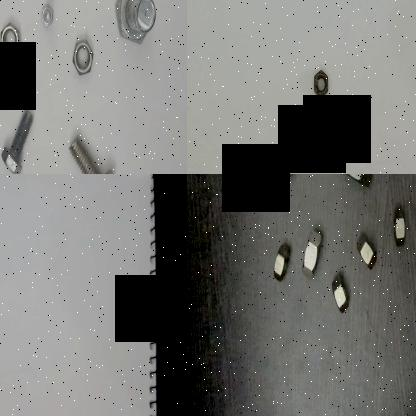Bolts: (0, 100, 39, 174), (110, 0, 157, 56), (60, 130, 118, 174), (38, 0, 62, 32)
NUTS: (296, 226, 326, 284), (330, 264, 354, 330), (68, 37, 102, 83), (355, 219, 379, 275), (272, 232, 294, 290), (0, 21, 22, 67), (335, 174, 377, 195), (390, 208, 410, 252), (310, 66, 330, 104)
